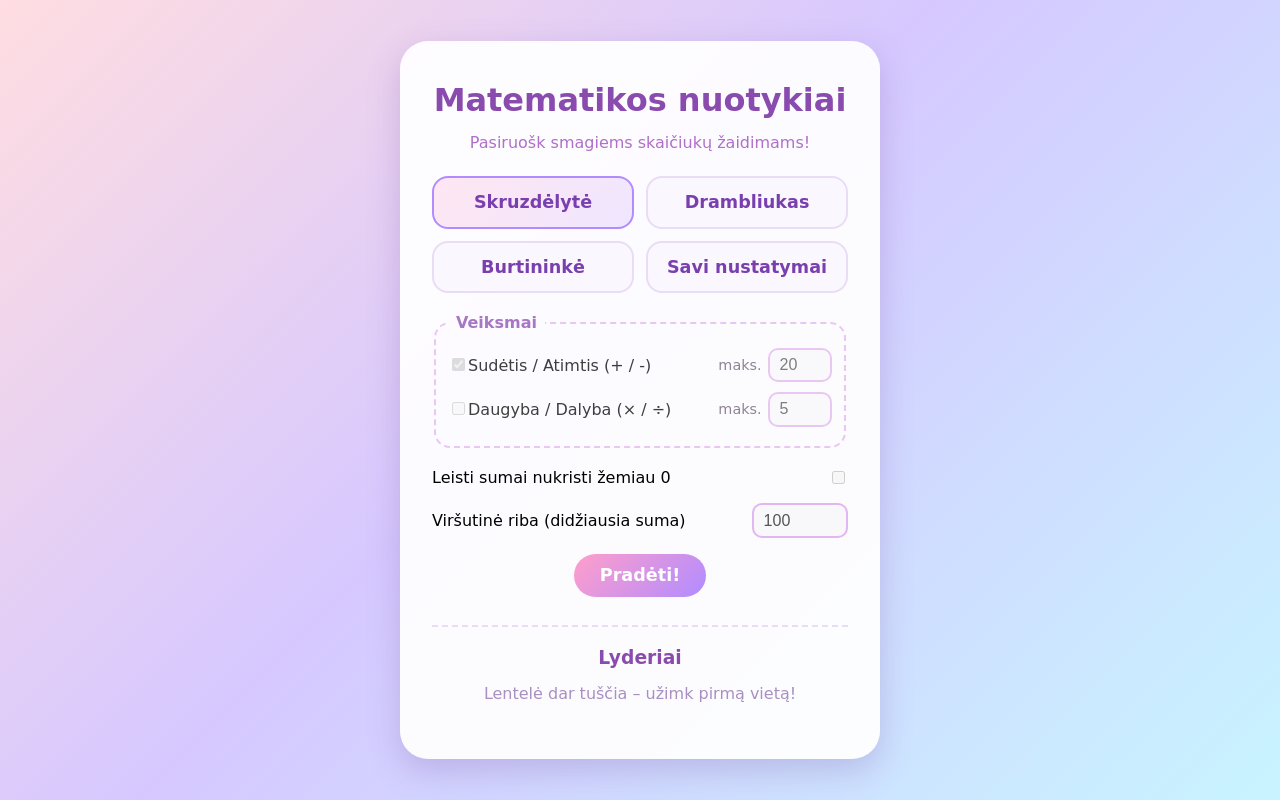
Test: App › opens the confirmation with Escape, closes it with Escape again, and cancels on confirm
This screenshot has width=1280, height=800.
Click the button "Pradėti!" at (640, 575), box x1=574 y1=554 x2=706 y2=597
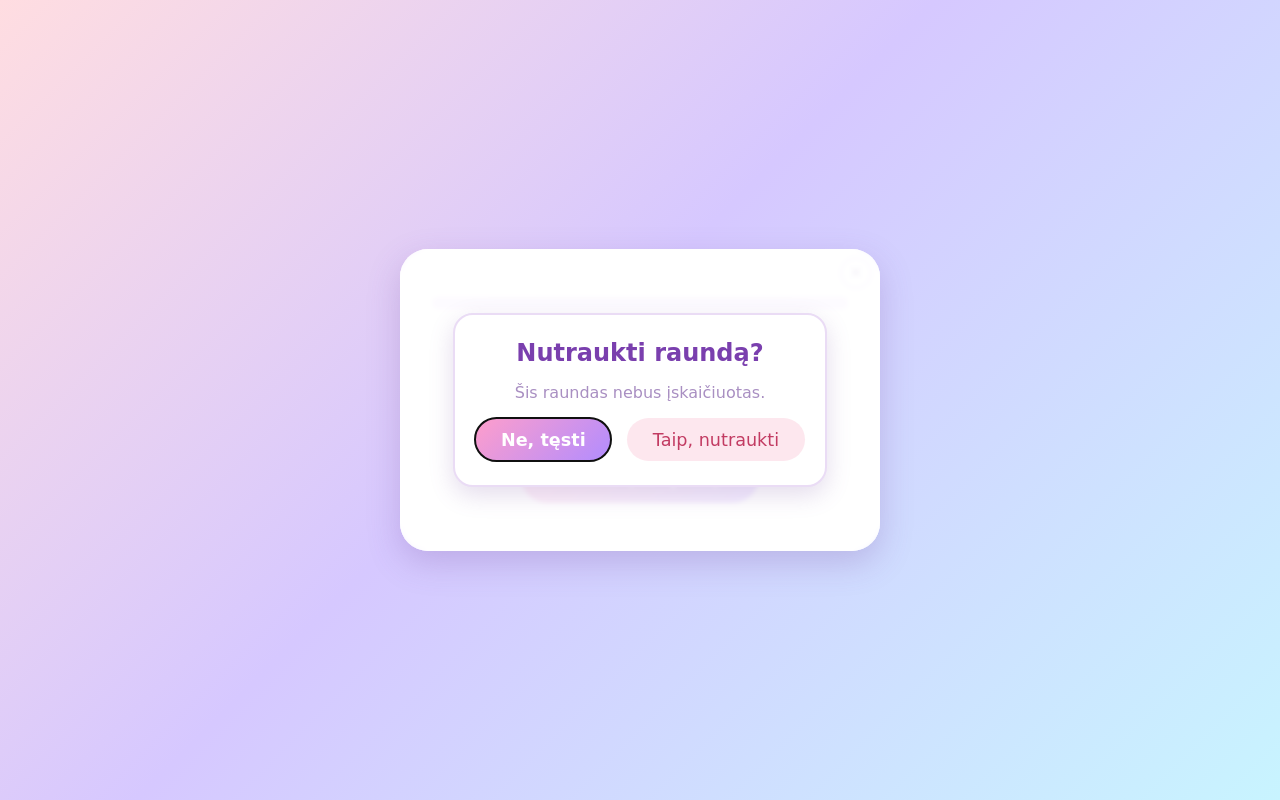
Result: the dialog is shown at x1=453 y1=313 x2=827 y2=487
Result: the button "Kitas (tarpas)" is shown at x1=521 y1=450 x2=759 y2=503
Click the button "Taip, nutraukti" at (716, 440), box x1=627 y1=418 x2=805 y2=461
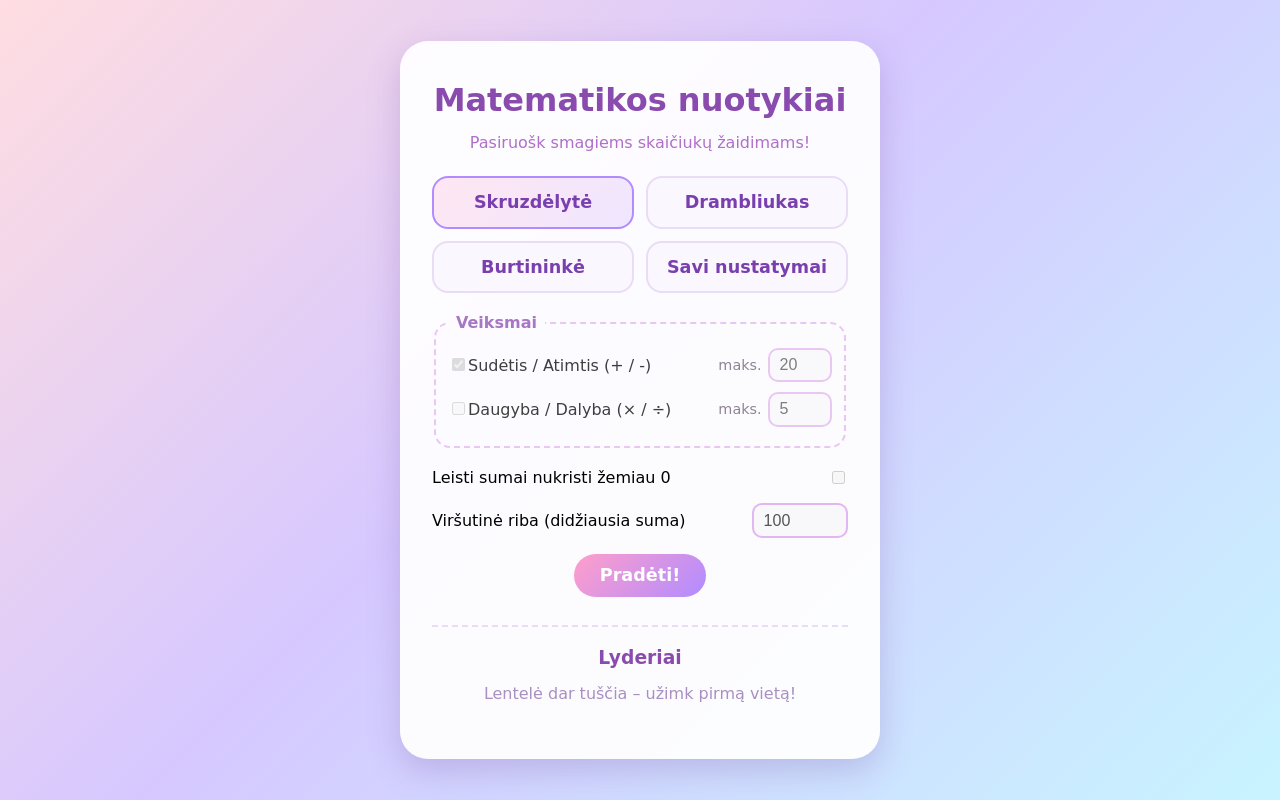
Result: the button "Pradėti!" is shown at x1=574 y1=554 x2=706 y2=597
